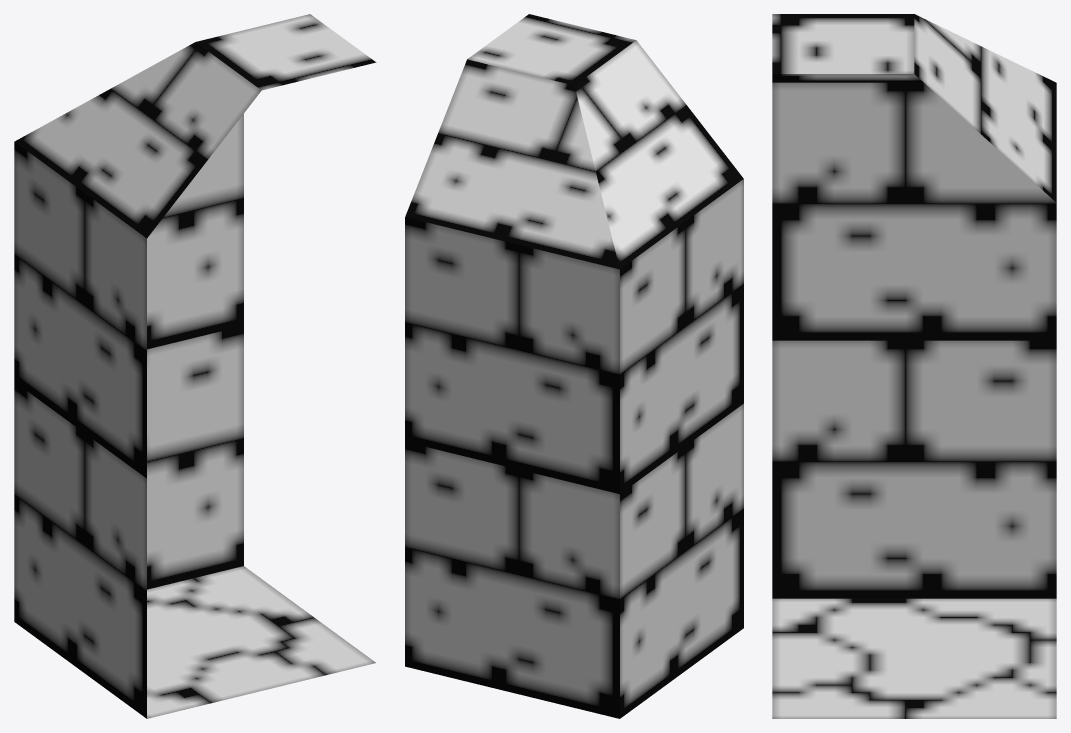
Rendered from stone_stone_wall-inner-corner.fbx.
3 renders of one model, left to right at view 1: azimuth 30°, elevation 25°; view 2: azimuth 150°, elevation 25°; view 3: azimuth 270°, elevation 25°, orthographic. The views are drawn at different scales.
Parts seen in each view (by area): view 1: stone_stone_wall-inner-corner; view 2: stone_stone_wall-inner-corner; view 3: stone_stone_wall-inner-corner.
Boxes of the visible parts, left/top/right/bottom form: stone_stone_wall-inner-corner: left=14, top=14, right=376, bottom=718; stone_stone_wall-inner-corner: left=405, top=14, right=743, bottom=718; stone_stone_wall-inner-corner: left=772, top=14, right=1056, bottom=718.
Size of the model in its own units: 100 by 100 by 250.
